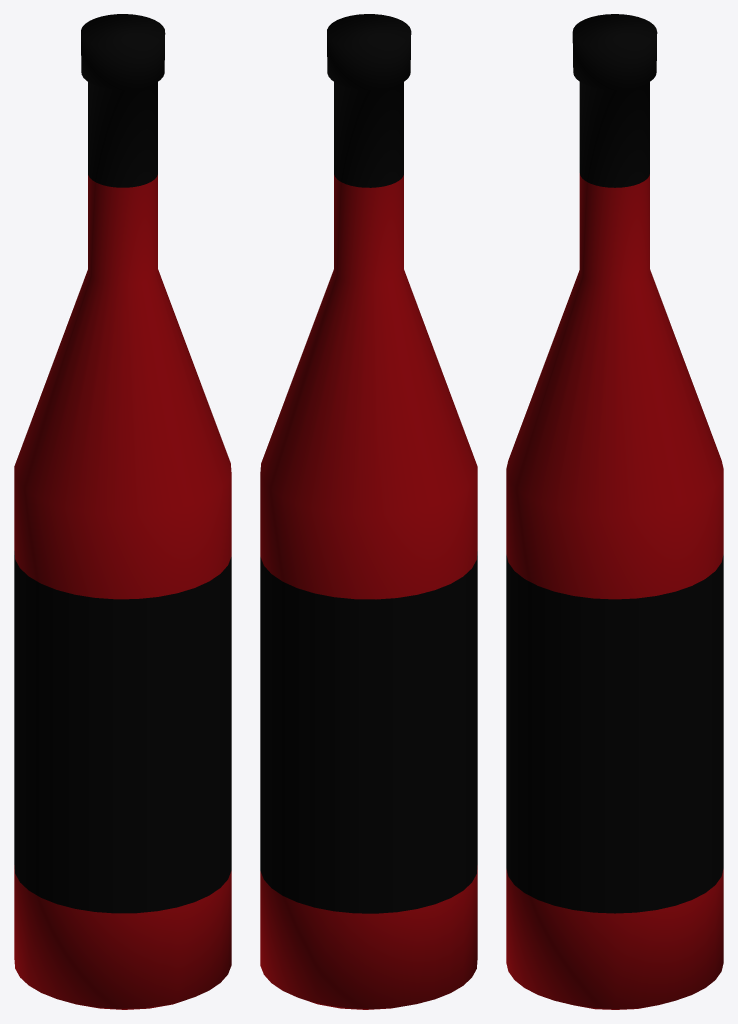
The model's file is WineBottle.glb.
3 views of the same model, side by side, from view 1: azimuth 30°, elevation 25°; view 2: azimuth 150°, elevation 25°; view 3: azimuth 270°, elevation 25° (orthographic).
Parts seen in each view (by area): view 1: WineBottle; view 2: WineBottle; view 3: WineBottle.
Part boxes in pixels (left/top/right/bottom): WineBottle: left=14, top=14, right=231, bottom=1009; WineBottle: left=260, top=14, right=477, bottom=1009; WineBottle: left=506, top=14, right=723, bottom=1009.
Size of the model in its own units: 0.2104 by 1.01 by 0.2104.
